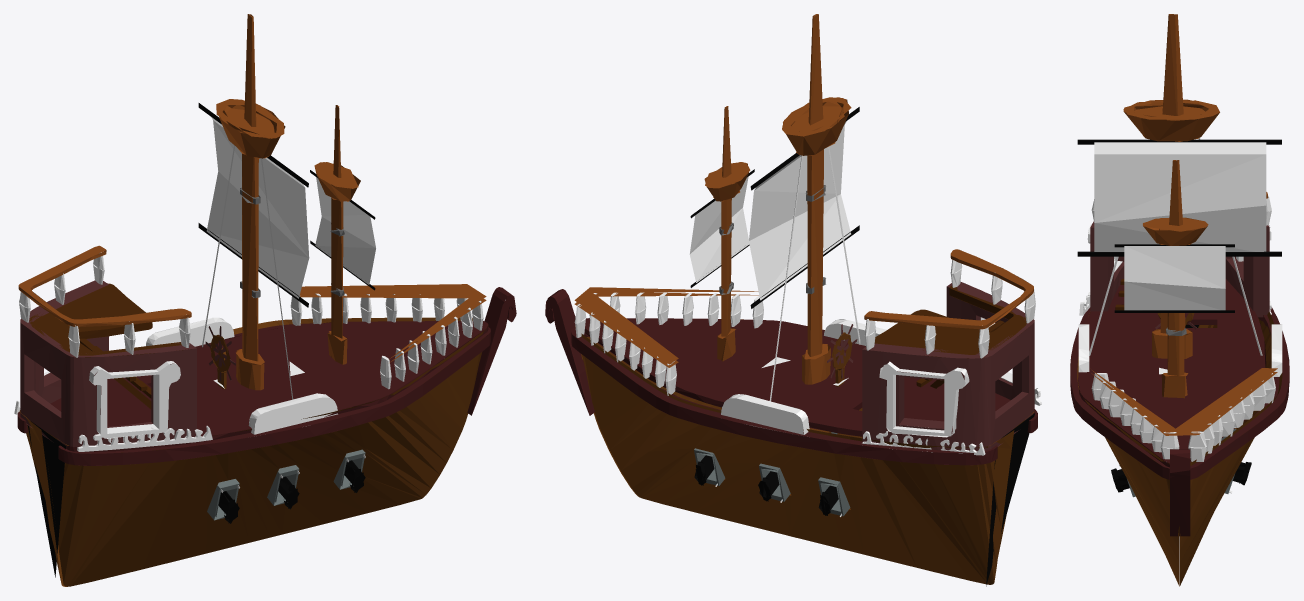
File: pirateships.fbx
The picture shows the model from 3 angles, left to right: view 1: azimuth 30°, elevation 25°; view 2: azimuth 150°, elevation 25°; view 3: azimuth 270°, elevation 25°; orthographic projection. The views are drawn at different scales.
Visible parts, largest first — view 1: Obj_000086, Obj_000034, Obj_000078, Obj_000124, Obj_000058, Obj_000076, Obj_000054, Obj_000111, Obj_000036, Obj_000130, Obj_000069, Obj_000125 (+11 smaller); view 2: Obj_000052, Obj_000034, Obj_000078, Obj_000124, Obj_000057, Obj_000076, Obj_000054, Obj_000111, Obj_000130, Obj_000069, Obj_000035, Obj_000125 (+10 smaller); view 3: Obj_000124, Obj_000034, Obj_000130, Obj_000052, Obj_000078, Obj_000086, Obj_000125, Obj_000111, Obj_000057, Obj_000058, Obj_000056, Obj_000053 (+15 smaller).
Boxes of the visible parts, bbox=[...] form: Obj_000086: bbox=[44, 324, 488, 586]; Obj_000034: bbox=[50, 321, 488, 451]; Obj_000078: bbox=[20, 280, 196, 453]; Obj_000124: bbox=[206, 117, 309, 298]; Obj_000058: bbox=[58, 327, 490, 465]; Obj_000076: bbox=[29, 283, 185, 357]; Obj_000054: bbox=[242, 154, 258, 364]; Obj_000111: bbox=[300, 284, 486, 362]; Obj_000036: bbox=[89, 361, 180, 438]; Obj_000130: bbox=[315, 177, 375, 284]; Obj_000069: bbox=[18, 245, 191, 326]; Obj_000125: bbox=[216, 99, 285, 158]; Obj_000052: bbox=[575, 326, 1014, 584]; Obj_000034: bbox=[584, 318, 1034, 436]; Obj_000078: bbox=[862, 282, 1034, 452]; Obj_000124: bbox=[749, 121, 850, 300]; Obj_000057: bbox=[571, 327, 997, 465]; Obj_000076: bbox=[874, 285, 1026, 358]; Obj_000054: bbox=[807, 149, 823, 359]; Obj_000111: bbox=[574, 287, 758, 367]; Obj_000130: bbox=[689, 176, 749, 282]; Obj_000069: bbox=[864, 249, 1033, 329]; Obj_000035: bbox=[879, 361, 969, 437]; Obj_000125: bbox=[782, 97, 851, 155]; Obj_000124: bbox=[1094, 142, 1266, 251]; Obj_000034: bbox=[1078, 279, 1266, 467]; Obj_000130: bbox=[1124, 246, 1225, 310]; Obj_000052: bbox=[1180, 311, 1282, 585]; Obj_000078: bbox=[1090, 221, 1269, 317]; Obj_000086: bbox=[1077, 312, 1179, 586]; Obj_000125: bbox=[1123, 99, 1219, 141]; Obj_000111: bbox=[1091, 368, 1277, 435]; Obj_000057: bbox=[1190, 307, 1289, 479]; Obj_000058: bbox=[1070, 307, 1169, 479]; Obj_000056: bbox=[1170, 449, 1190, 536]; Obj_000053: bbox=[1162, 14, 1183, 115].
Size of the model in its own units: 58.47 by 62.98 by 25.32.
